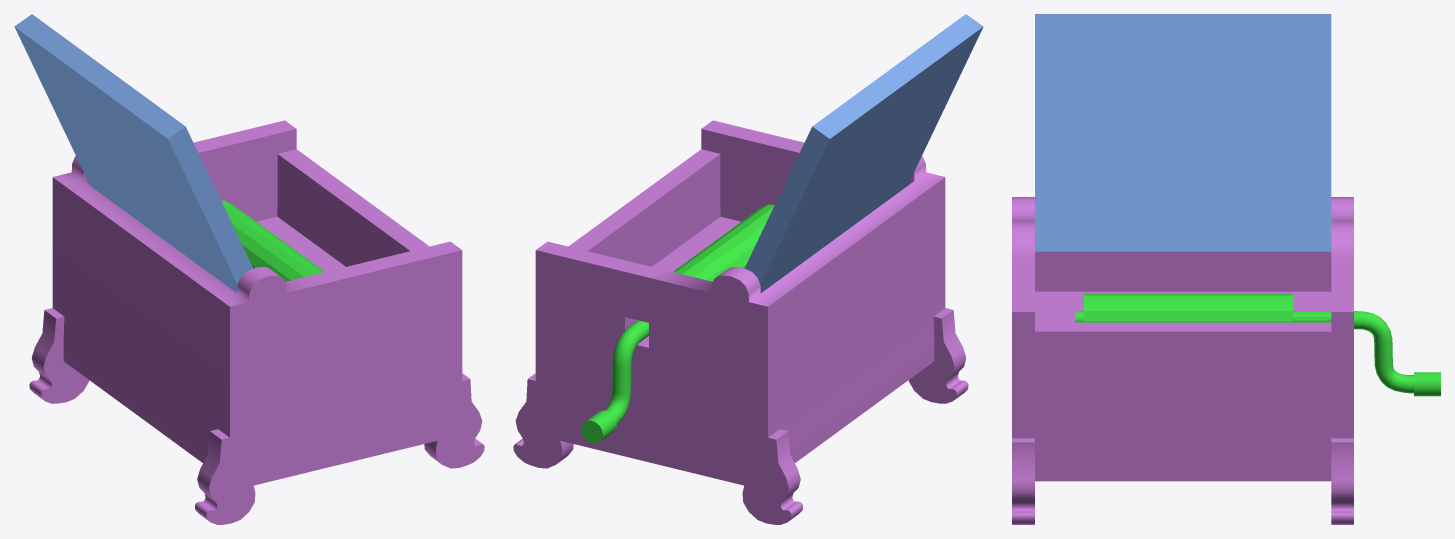
The model's file is CajaMusica.fbx.
The picture shows the model from 3 angles, left to right: view 1: azimuth 30°, elevation 25°; view 2: azimuth 150°, elevation 25°; view 3: azimuth 270°, elevation 25°; orthographic projection. The views are drawn at different scales.
Parts seen in each view (by area): view 1: Box009, Box010, Cylinder002; view 2: Box009, Box010, Cylinder002; view 3: Box009, Box010, Cylinder002.
Boxes of the visible parts, bbox=[...] form: Box009: bbox=[29, 120, 484, 524]; Box010: bbox=[14, 14, 253, 292]; Cylinder002: bbox=[221, 200, 324, 281]; Box009: bbox=[513, 120, 968, 524]; Box010: bbox=[744, 14, 983, 292]; Cylinder002: bbox=[581, 204, 774, 443]; Box009: bbox=[1012, 197, 1353, 524]; Box010: bbox=[1035, 14, 1331, 251]; Cylinder002: bbox=[1075, 293, 1440, 396].
Size of the model in its own units: 42.74 by 53.14 by 53.99.
